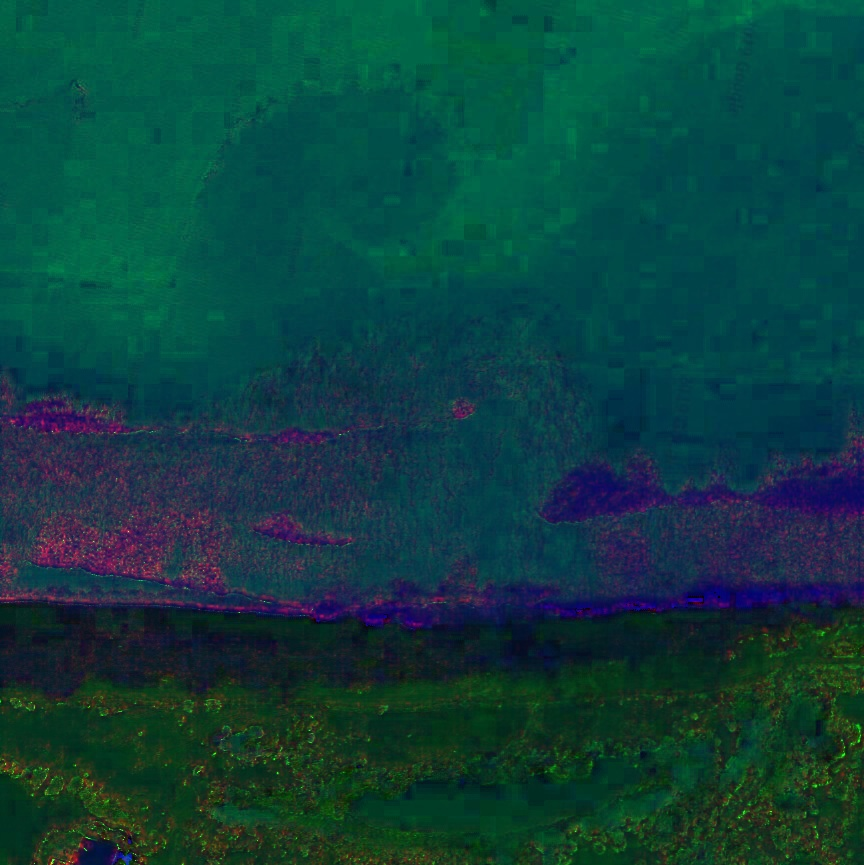rip_current: (369, 258, 583, 573)
